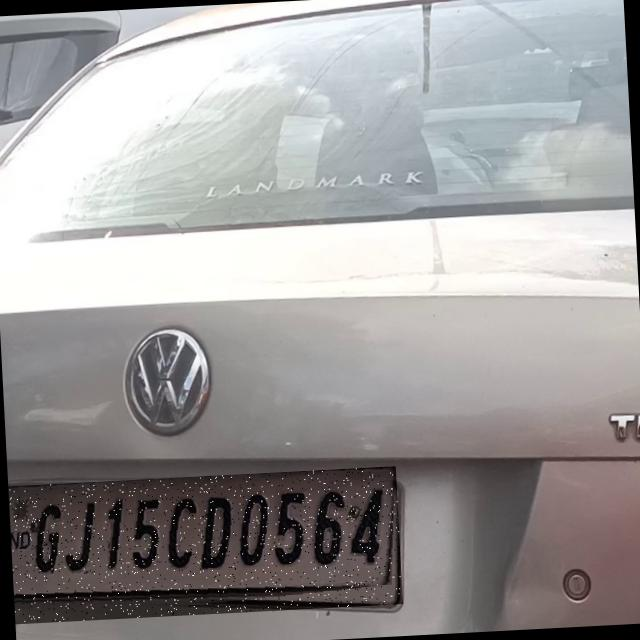Plate: (9, 468, 404, 626)
